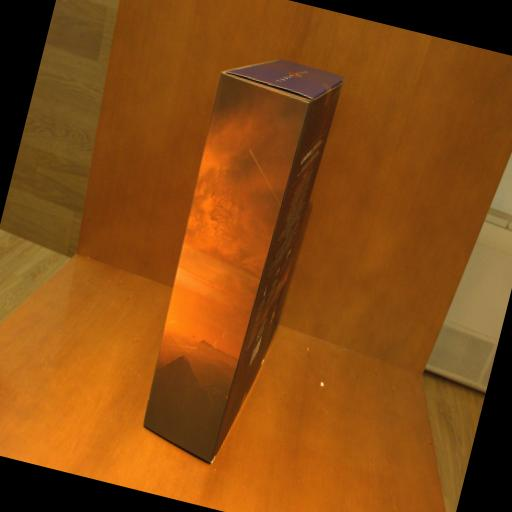superman: (130, 44, 345, 472)
